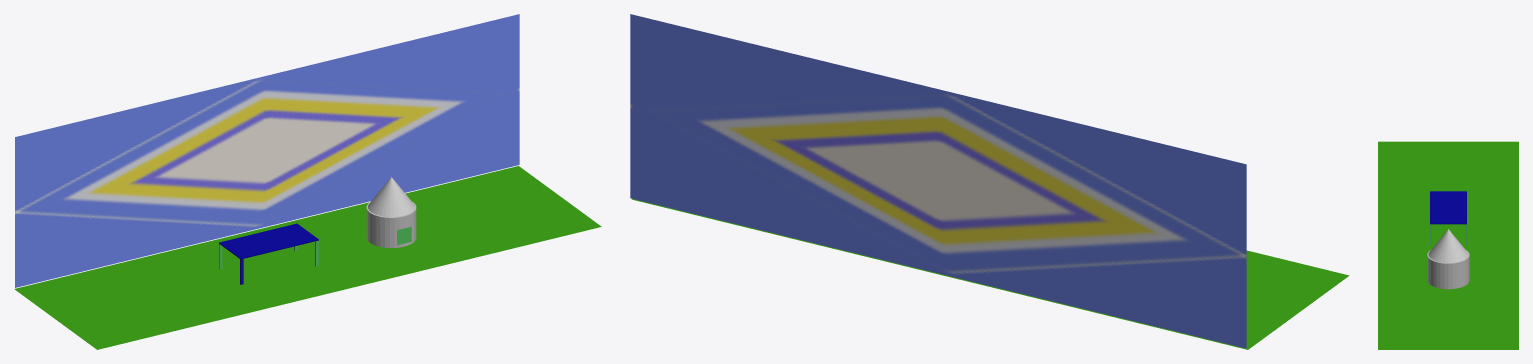
The model's file is table.obj.
The picture shows the model from 3 angles, left to right: view 1: azimuth 30°, elevation 25°; view 2: azimuth 150°, elevation 25°; view 3: azimuth 270°, elevation 25°; orthographic projection. The views are drawn at different scales.
Parts seen in each view (by area): view 1: Plane.001, Plane, Cube, Cylinder, Cone; view 2: Plane.001, Plane; view 3: Plane, Cube, Cylinder, Cone.
Part boxes in pixels (box(x1,y1,x2,y2)): Plane.001: box(15, 14, 519, 287); Plane: box(14, 166, 601, 349); Cube: box(219, 223, 318, 259); Cylinder: box(366, 201, 416, 247); Cone: box(368, 177, 414, 216); Plane.001: box(630, 14, 1246, 348); Plane: box(632, 199, 1349, 349); Plane: box(1378, 141, 1518, 349); Cube: box(1430, 191, 1466, 224); Cylinder: box(1427, 250, 1469, 289); Cone: box(1428, 229, 1468, 262).
Bounding box in the file's own units: 70.15 × 20.1 × 20.
Materials: 6 (1 with a texture image).
